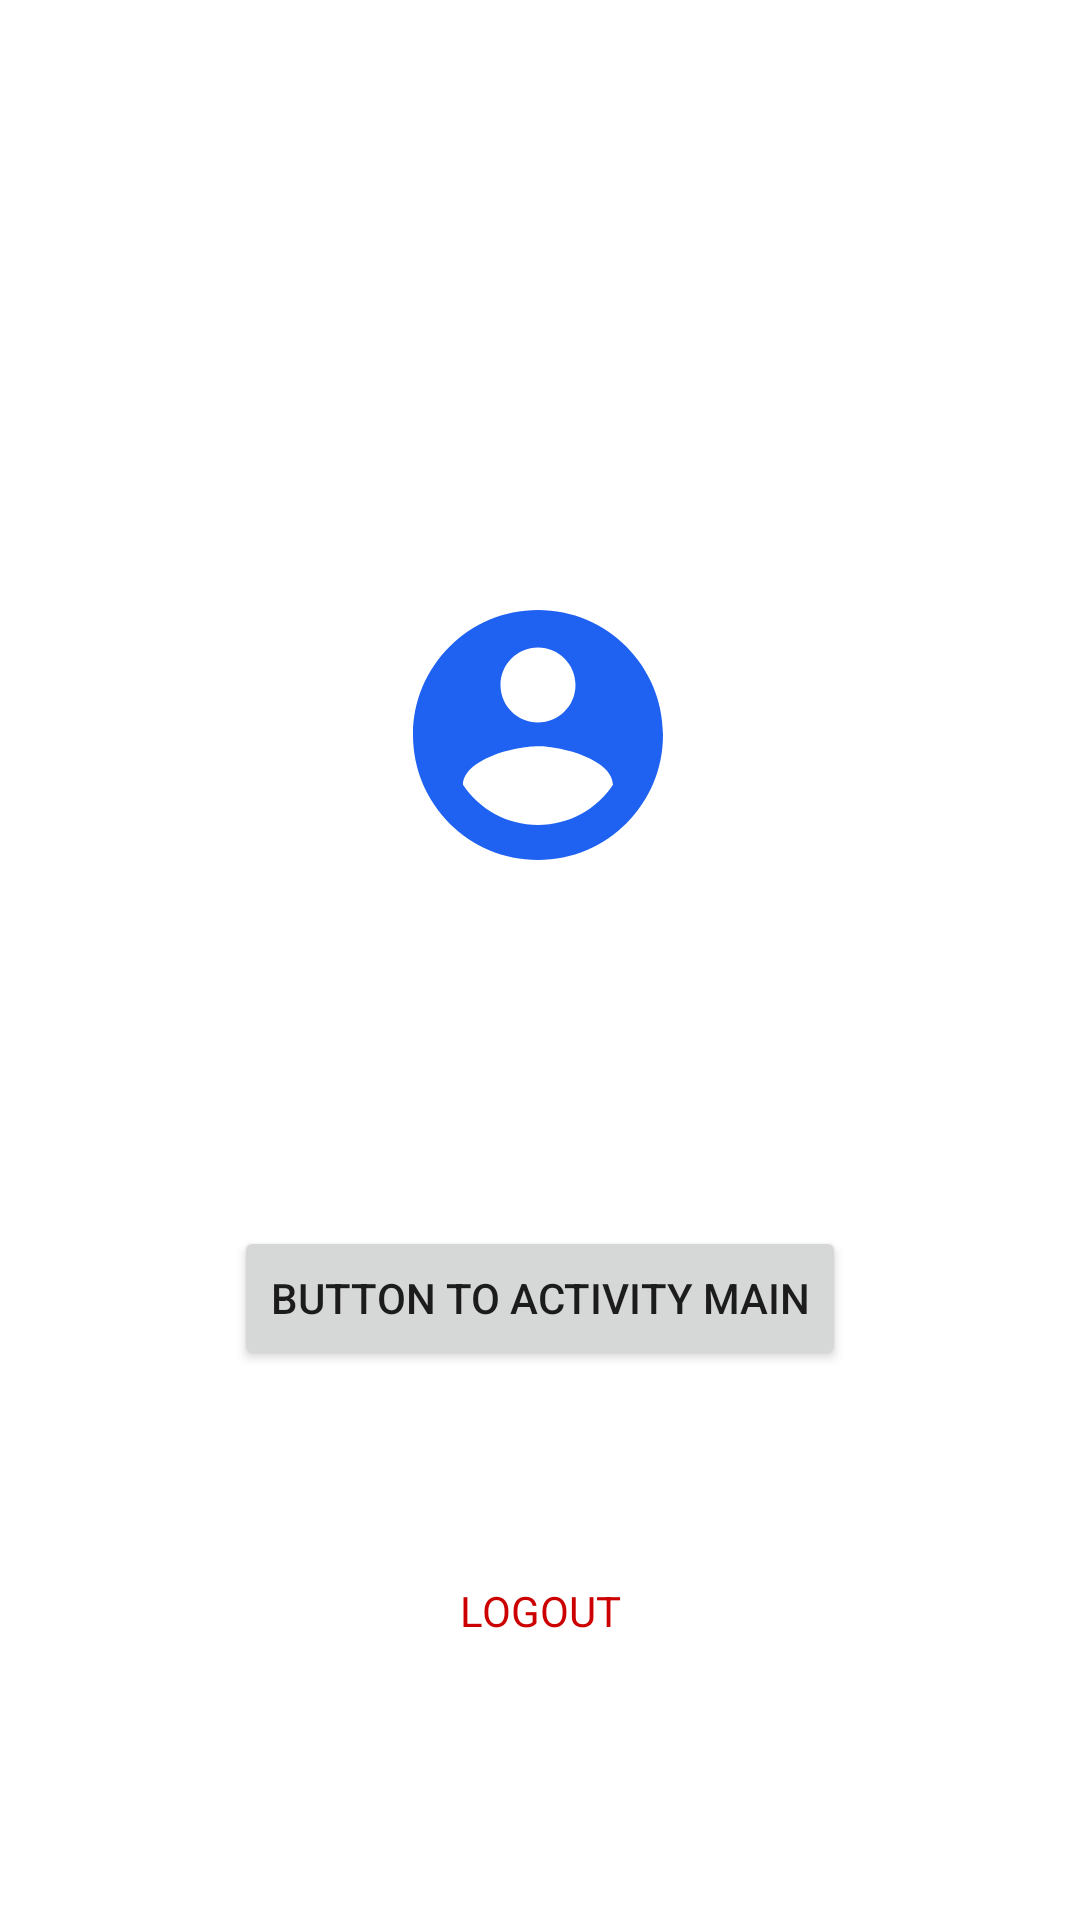

Screen size 1080x1920. Icon name, then its center in pixels as [x,y]:
account: [538,735]
